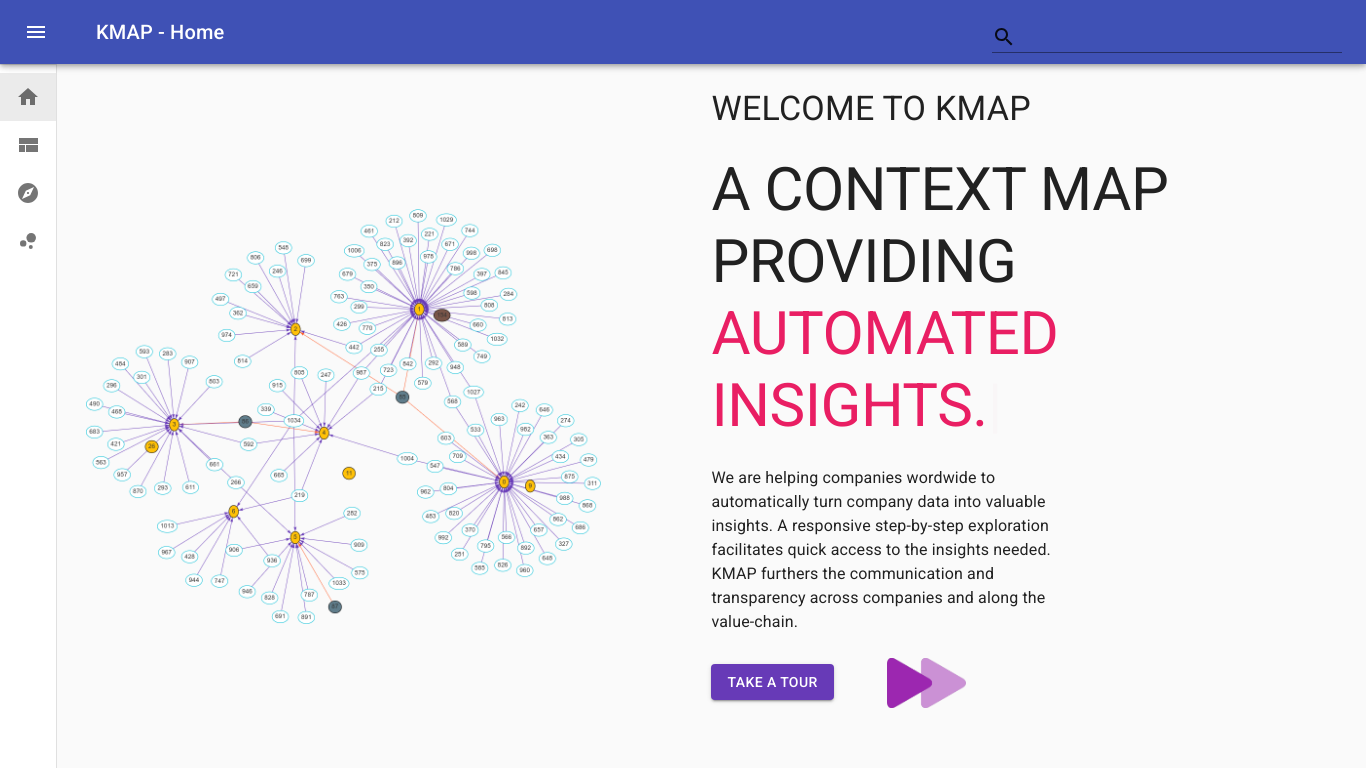
Routes › has an accessible data route
This screenshot has width=1366, height=768.
Click the button named "open drawer" at (36, 32), box [12,8,60,56]
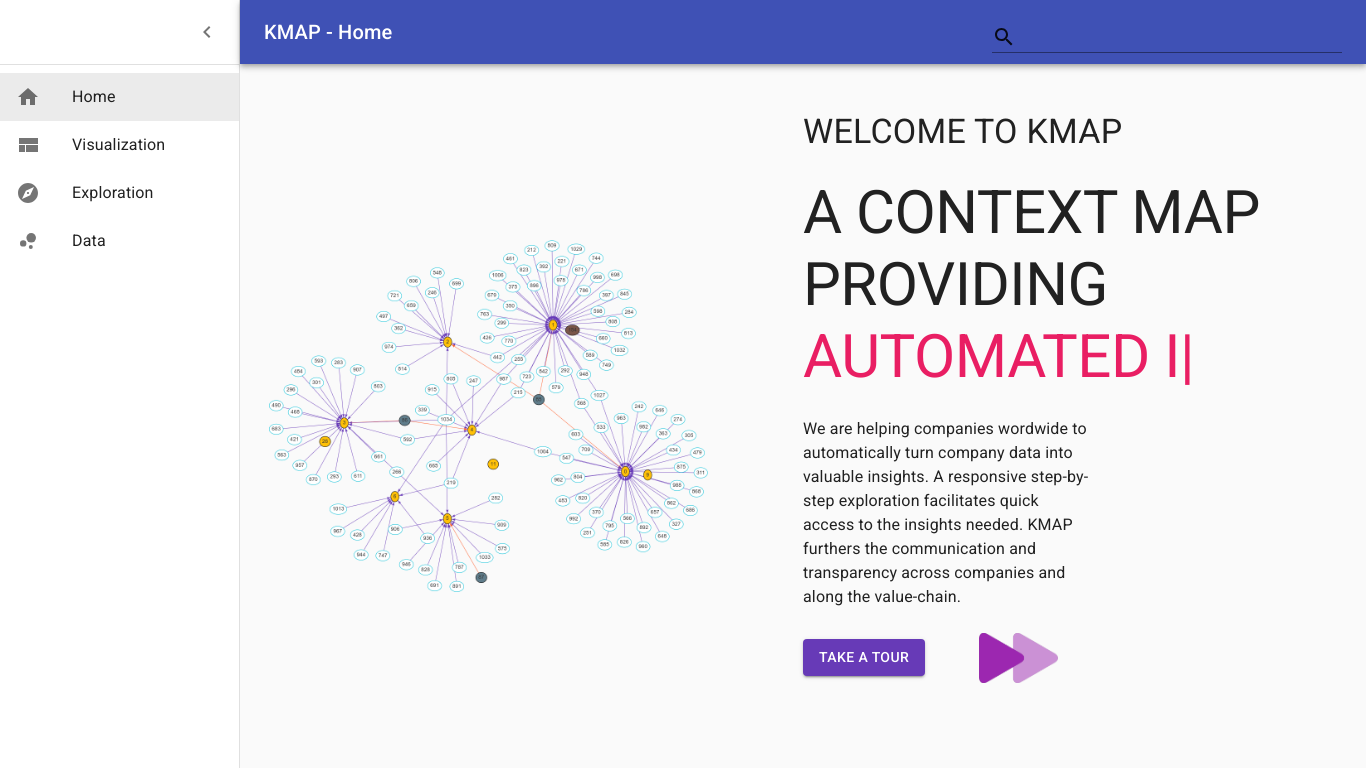
Click the button "Data" at (89, 241), box [16,229,106,253]
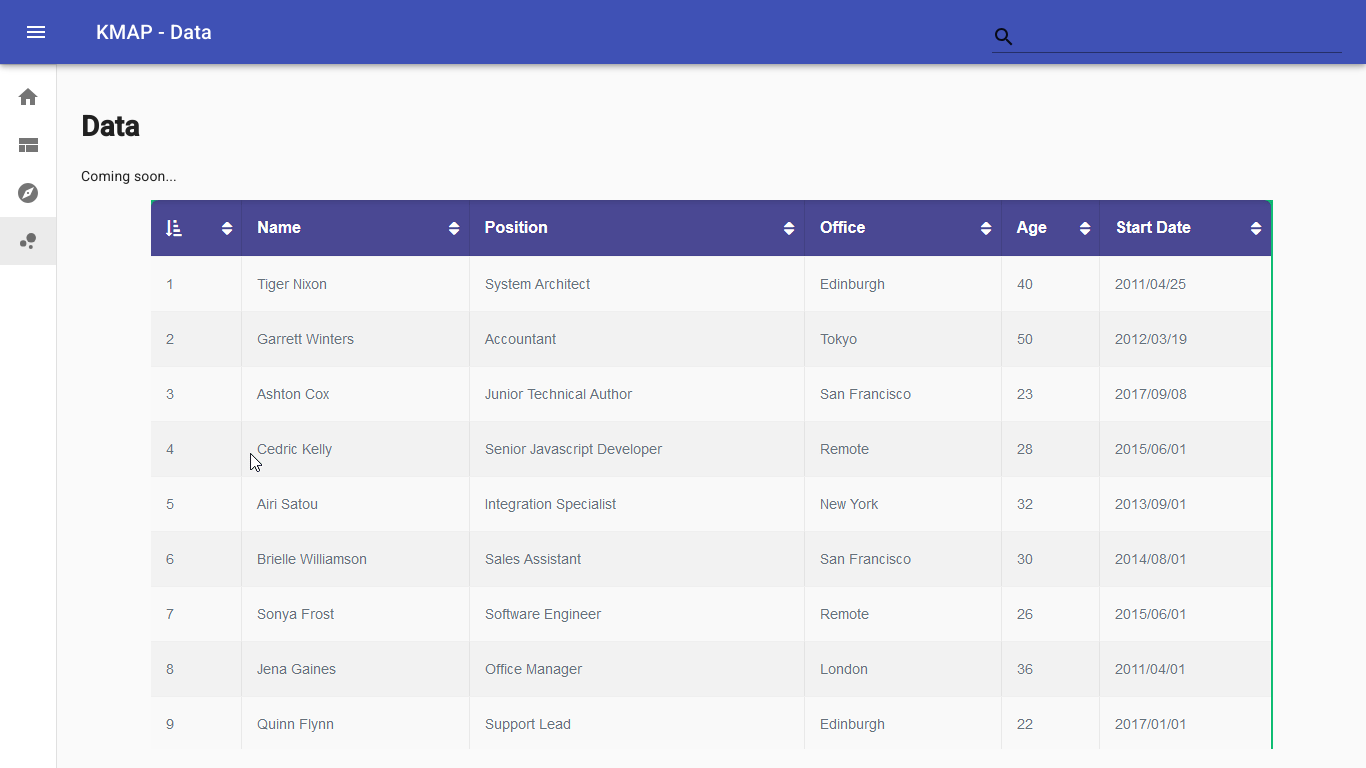
Result: the heading "KMAP - Data" is shown at [96,16,212,48]
